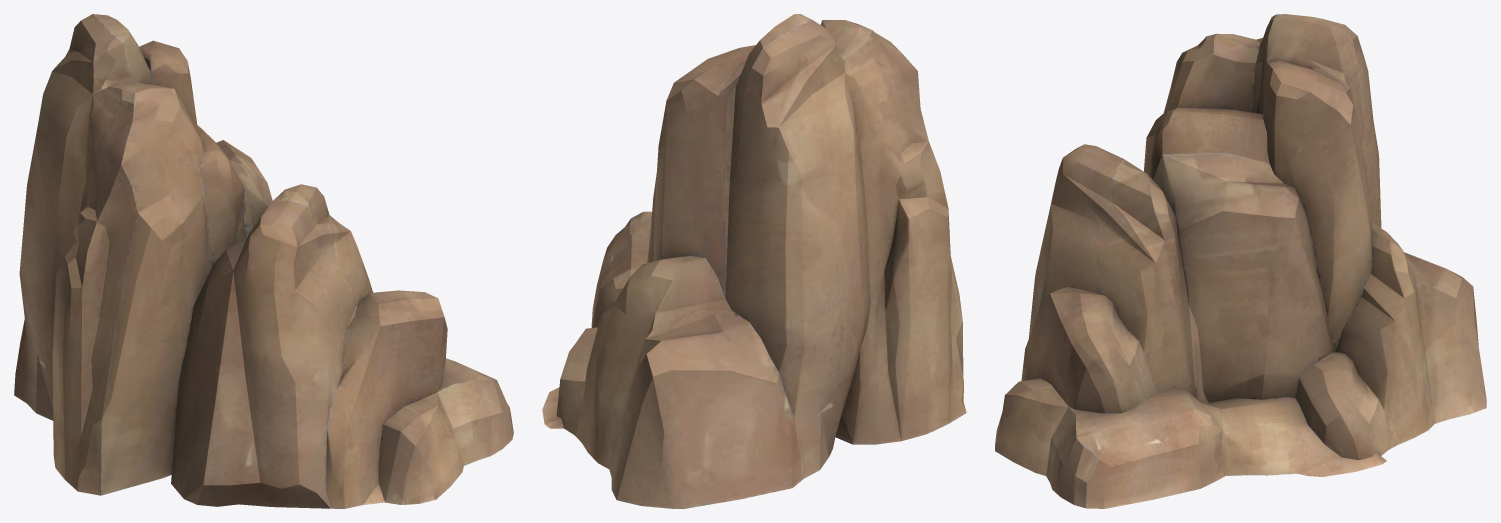
3 views of the same model, side by side, from view 1: azimuth 30°, elevation 25°; view 2: azimuth 150°, elevation 25°; view 3: azimuth 270°, elevation 25° (orthographic). The views are drawn at different scales.
Parts seen in each view (by area): view 1: body0_model0_lod0_mesh0; view 2: body0_model0_lod0_mesh0; view 3: body0_model0_lod0_mesh0.
Part boxes in pixels (left/top/right/bottom): body0_model0_lod0_mesh0: left=14, top=14, right=513, bottom=508; body0_model0_lod0_mesh0: left=542, top=14, right=966, bottom=508; body0_model0_lod0_mesh0: left=995, top=14, right=1486, bottom=508.
Bounding box in the file's own units: 298 × 290 × 354.
Materials: 1 (1 with a texture image).
